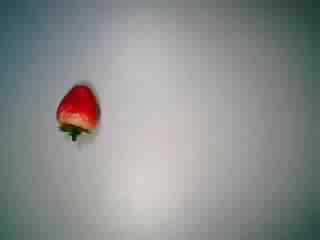strawberry: (46, 80, 112, 142)
